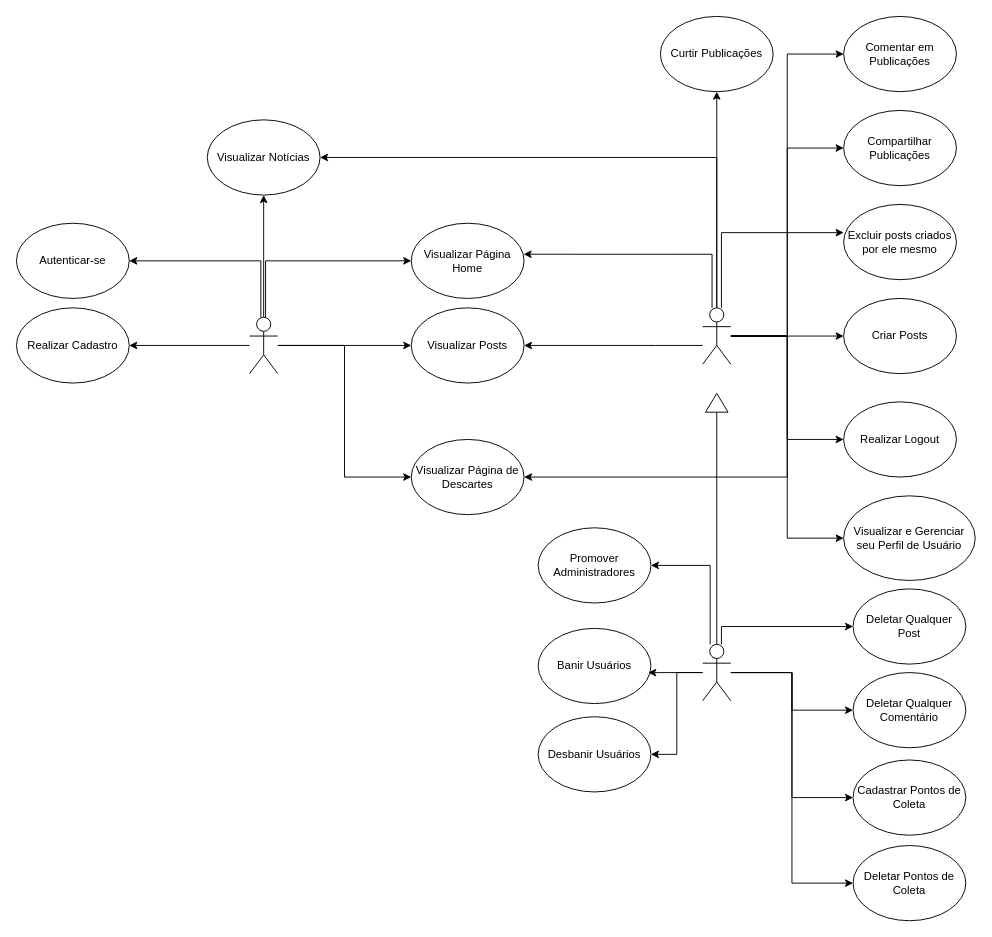
The diagram is 992 pixels wide and 937 high, and some of its shapes have lost their labels. The shapes that lost their labels are listed below. From the top down, each one's centre as x and y in pixels, then its label:
At pixel 263 345: "Usuário Não Autenticado".
At pixel 716 335: "Usuário Autenticado".
At pixel 716 672: "Administrador".
